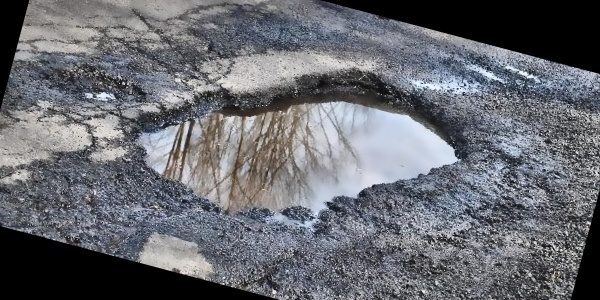pothole: (113, 12, 484, 271), (27, 47, 151, 115)
